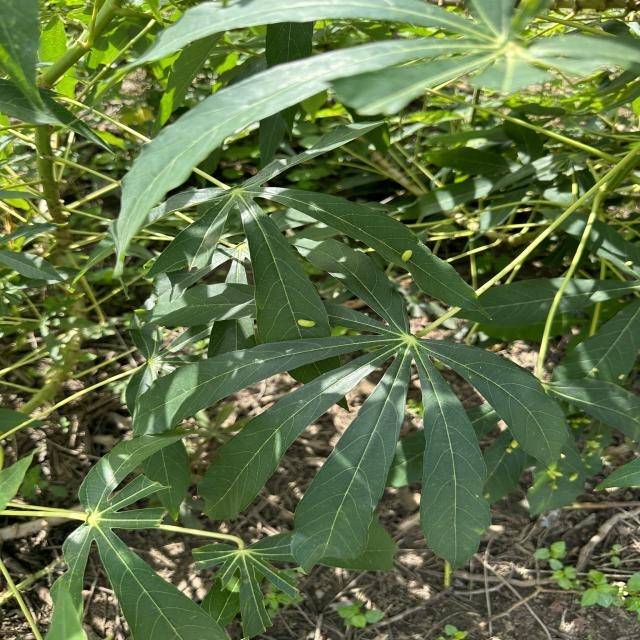Mosca: (583, 347, 640, 406), (285, 301, 352, 337), (543, 457, 593, 504), (389, 234, 427, 280), (474, 475, 517, 503), (493, 432, 535, 459)
